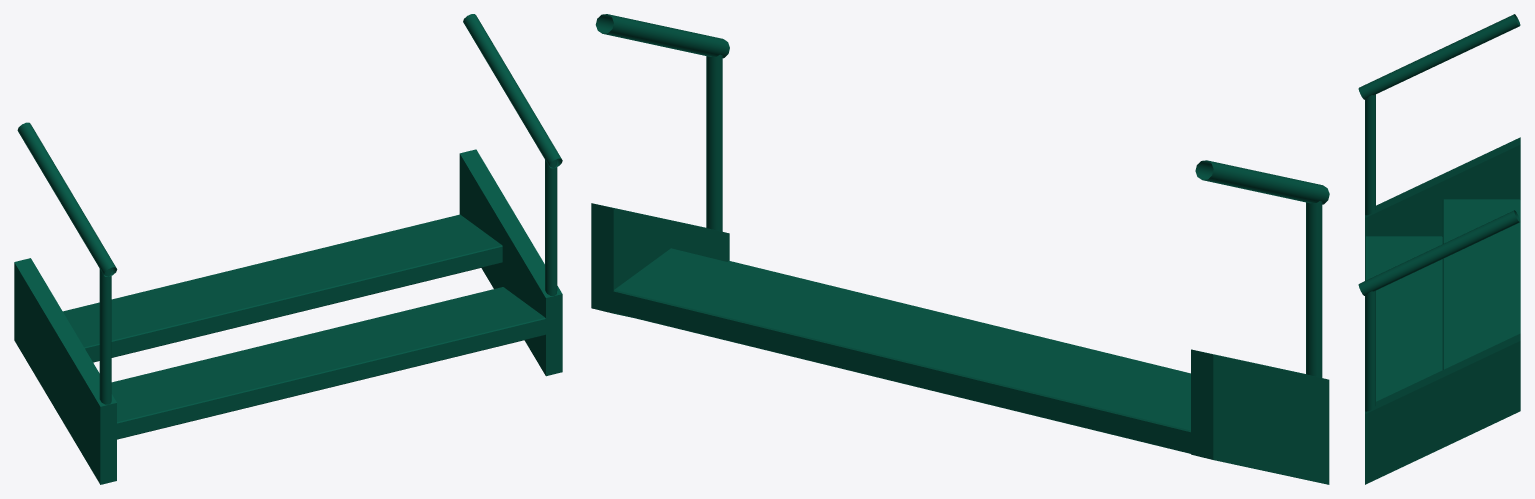
Rendered from stairMiddle.fbx.
3 views of the same model, side by side, from view 1: azimuth 30°, elevation 25°; view 2: azimuth 150°, elevation 25°; view 3: azimuth 270°, elevation 25° (orthographic). The views are drawn at different scales.
Parts seen in each view (by area): view 1: polySurface181, polySurface182, polySurface180, polySurface252, polySurface248, polySurface259, polySurface195, polySurface256; view 2: polySurface182, polySurface180, polySurface252, polySurface256, polySurface195, polySurface248, polySurface259, polySurface181; view 3: polySurface252, polySurface182, polySurface181, polySurface180, polySurface248, polySurface259, polySurface256, polySurface195.
Part boxes in pixels (bbox=[...]): polySurface181: bbox=[111, 287, 545, 439]; polySurface182: bbox=[63, 214, 502, 362]; polySurface180: bbox=[14, 258, 116, 484]; polySurface252: bbox=[459, 149, 562, 376]; polySurface248: bbox=[17, 122, 117, 276]; polySurface259: bbox=[463, 14, 562, 168]; polySurface195: bbox=[99, 268, 111, 404]; polySurface256: bbox=[545, 159, 557, 295]; polySurface182: bbox=[613, 248, 1190, 453]; polySurface180: bbox=[1191, 349, 1329, 484]; polySurface252: bbox=[591, 203, 729, 317]; polySurface256: bbox=[706, 54, 722, 231]; polySurface195: bbox=[1306, 201, 1322, 377]; polySurface248: bbox=[1195, 160, 1329, 204]; polySurface259: bbox=[595, 14, 729, 58]; polySurface181: bbox=[728, 261, 1190, 374]; polySurface252: bbox=[1365, 333, 1520, 484]; polySurface182: bbox=[1442, 199, 1520, 369]; polySurface181: bbox=[1365, 236, 1442, 401]; polySurface180: bbox=[1365, 137, 1520, 236]; polySurface248: bbox=[1358, 14, 1520, 99]; polySurface259: bbox=[1358, 210, 1520, 295]; polySurface256: bbox=[1365, 290, 1375, 411]; polySurface195: bbox=[1365, 94, 1375, 215].
Size of the model in its own units: 306 by 189 by 103.
